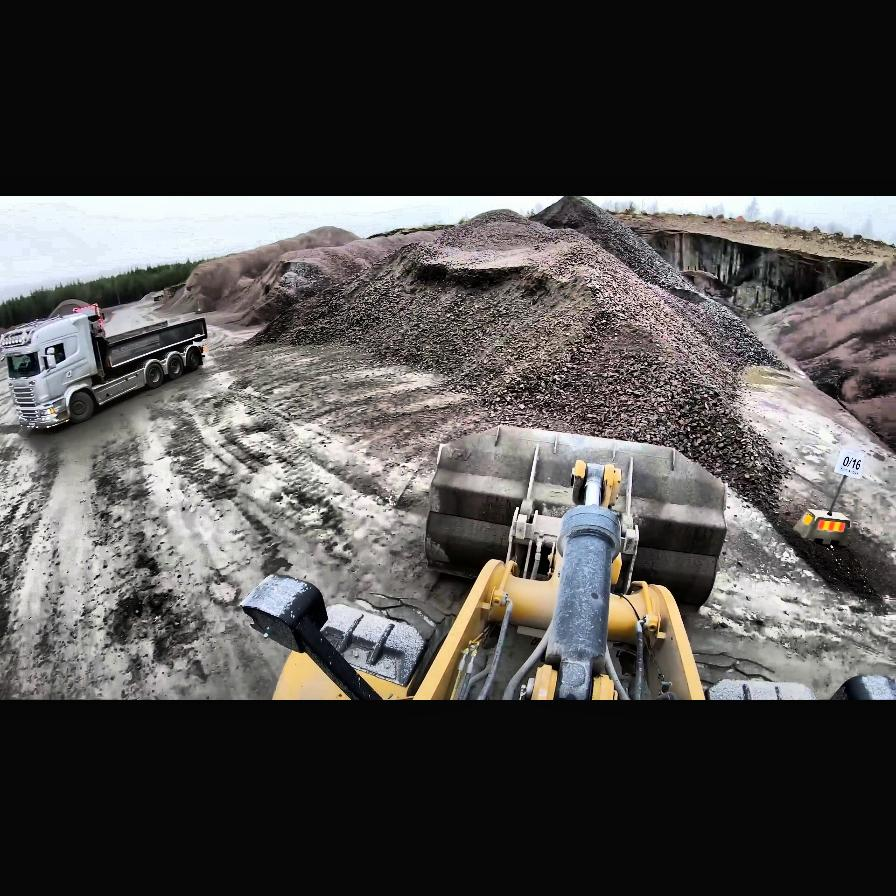anchor: (574, 461, 622, 509)
pile of gravel: (264, 198, 792, 534), (533, 199, 802, 379), (748, 251, 896, 455), (174, 224, 360, 328), (47, 298, 113, 324)
